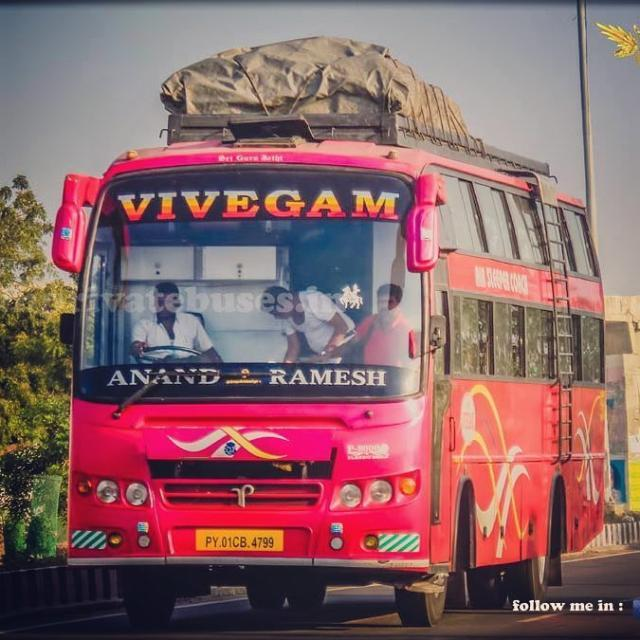Bus: (40, 29, 608, 632)
